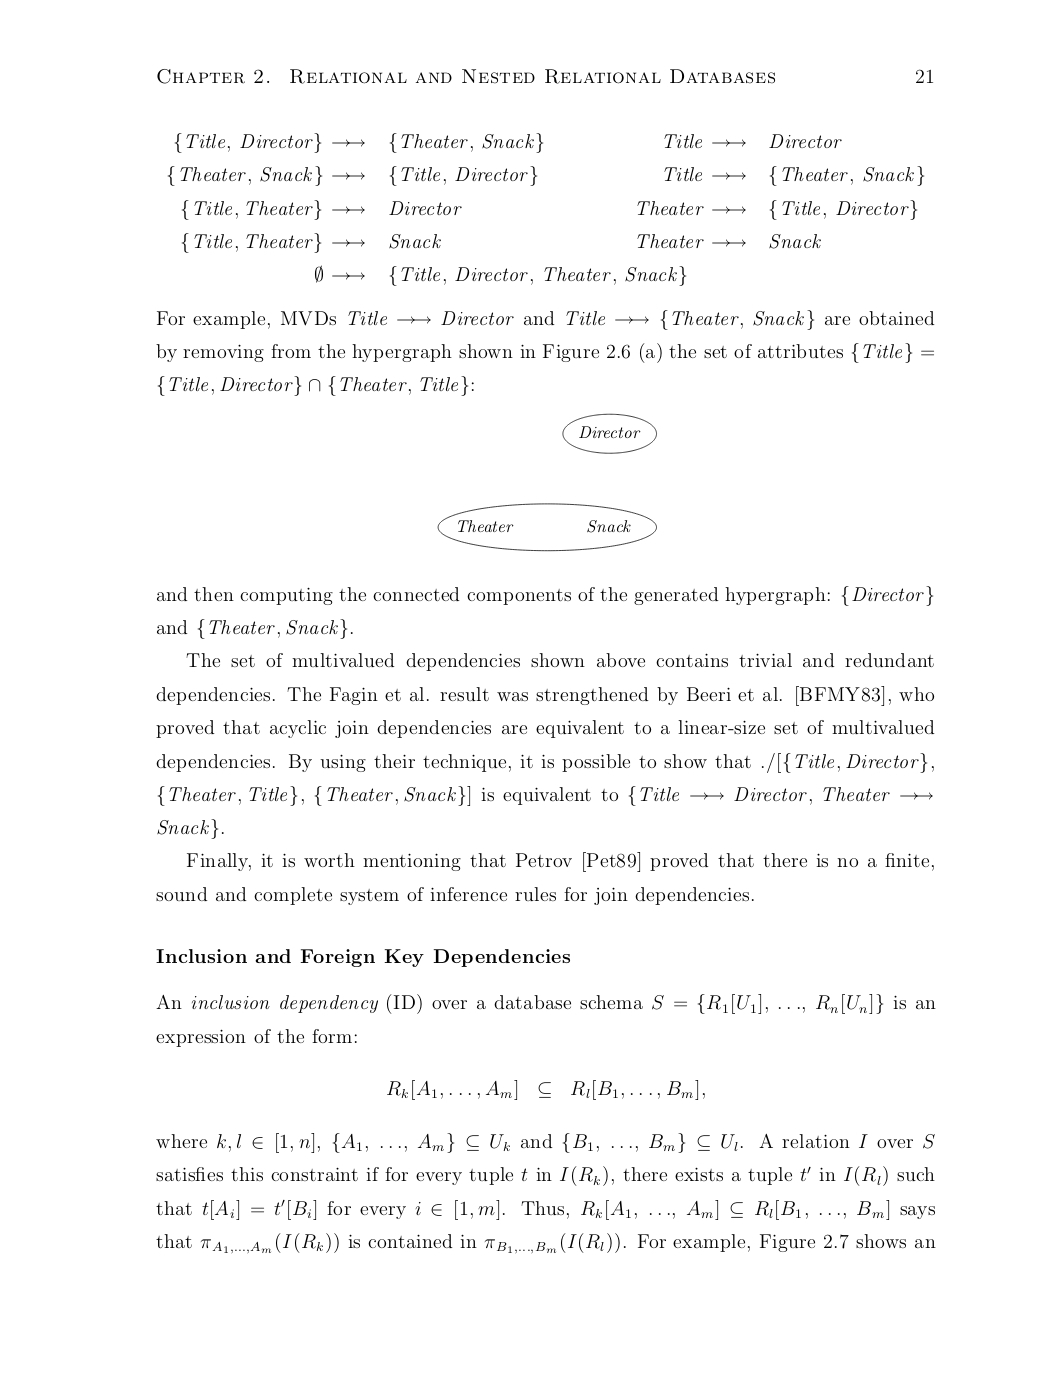figure: (437, 502, 656, 552), (562, 412, 656, 454)
formula: (167, 165, 924, 186), (181, 199, 917, 220), (174, 132, 841, 153), (181, 232, 820, 253), (315, 264, 687, 286), (387, 1079, 704, 1100)
